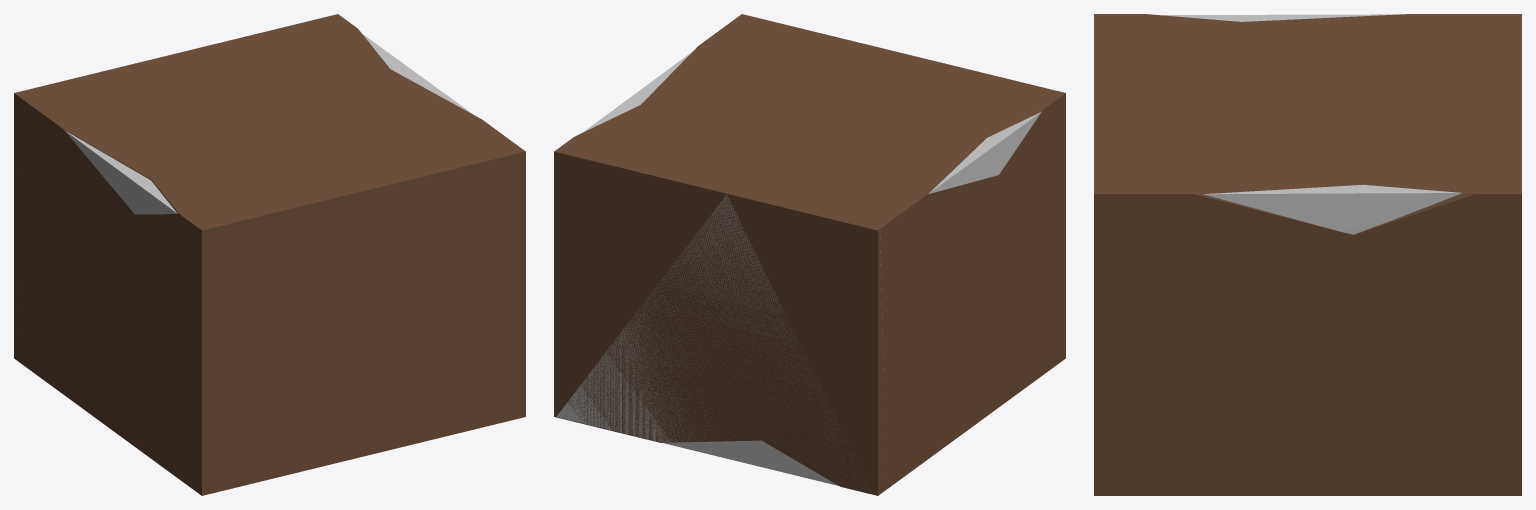
The model's file is SM_Bld_Wall_Beam_End_01.fbx.
3 views of the same model, side by side, from view 1: azimuth 30°, elevation 25°; view 2: azimuth 150°, elevation 25°; view 3: azimuth 270°, elevation 25° (orthographic). The views are drawn at different scales.
Parts seen in each view (by area): view 1: SM_Bld_Wall_Beam_End_01, SM_Bld_Wall_Beam_End_01_ConvexHulls; view 2: SM_Bld_Wall_Beam_End_01, SM_Bld_Wall_Beam_End_01_ConvexHulls; view 3: SM_Bld_Wall_Beam_End_01, SM_Bld_Wall_Beam_End_01_ConvexHulls.
Part boxes in pixels (x1,y1,x2,y2): SM_Bld_Wall_Beam_End_01: [14, 14, 525, 495]; SM_Bld_Wall_Beam_End_01_ConvexHulls: [64, 34, 473, 214]; SM_Bld_Wall_Beam_End_01: [554, 14, 1065, 495]; SM_Bld_Wall_Beam_End_01_ConvexHulls: [556, 51, 1041, 491]; SM_Bld_Wall_Beam_End_01: [1094, 14, 1521, 495]; SM_Bld_Wall_Beam_End_01_ConvexHulls: [1163, 14, 1462, 234].
Bounding box in the file's own units: 36.43 × 36.6 × 28.52.
2 materials, 1 textured.
